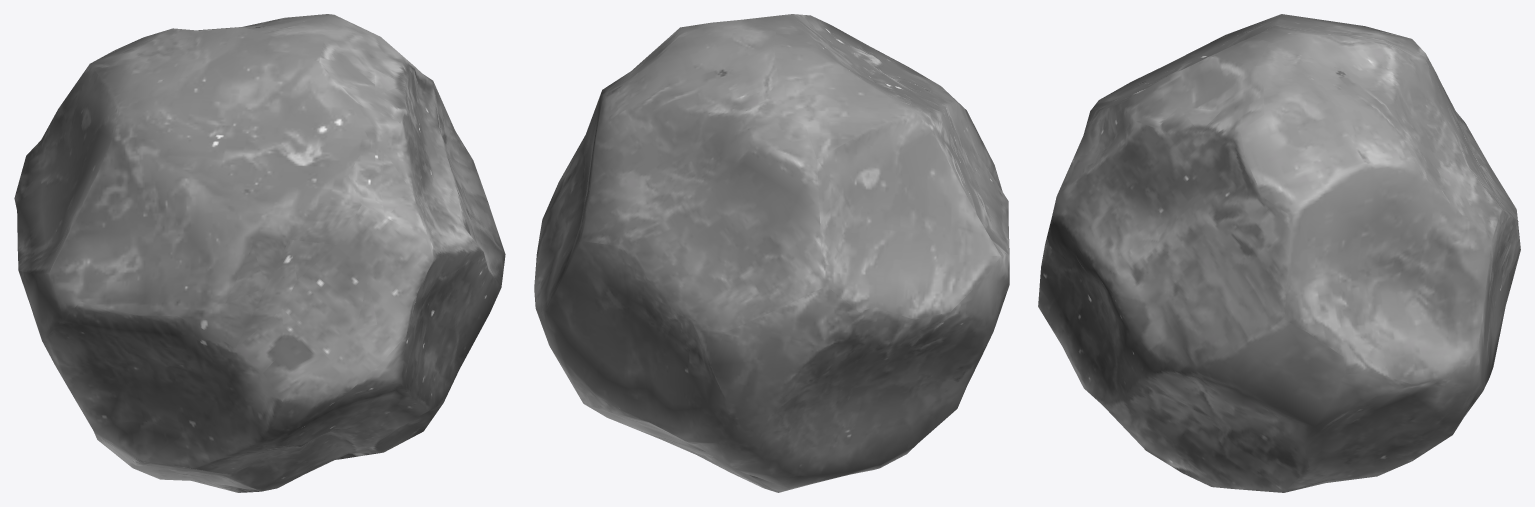
File: rock_04.glb
3 renders of one model, left to right at view 1: azimuth 30°, elevation 25°; view 2: azimuth 150°, elevation 25°; view 3: azimuth 270°, elevation 25°, orthographic. The views are drawn at different scales.
Parts seen in each view (by area): view 1: rock_04; view 2: rock_04; view 3: rock_04.
Part boxes in pixels (left/top/right/bottom): rock_04: left=14, top=14, right=505, bottom=492; rock_04: left=534, top=14, right=1009, bottom=492; rock_04: left=1038, top=14, right=1520, bottom=492.
Size of the model in its own units: 1.89 by 1.77 by 1.83.
1 material, 1 textured.
